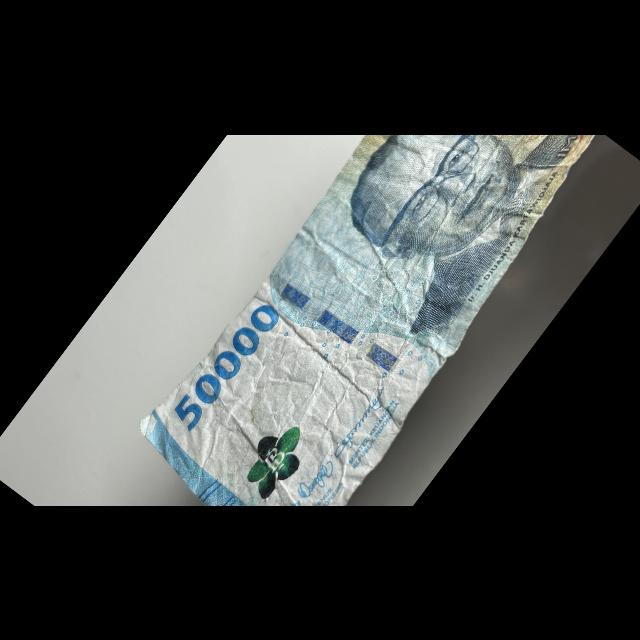Palsu-50k: (107, 15, 604, 540)
Tinta-Palsu-50k: (231, 411, 323, 502)
